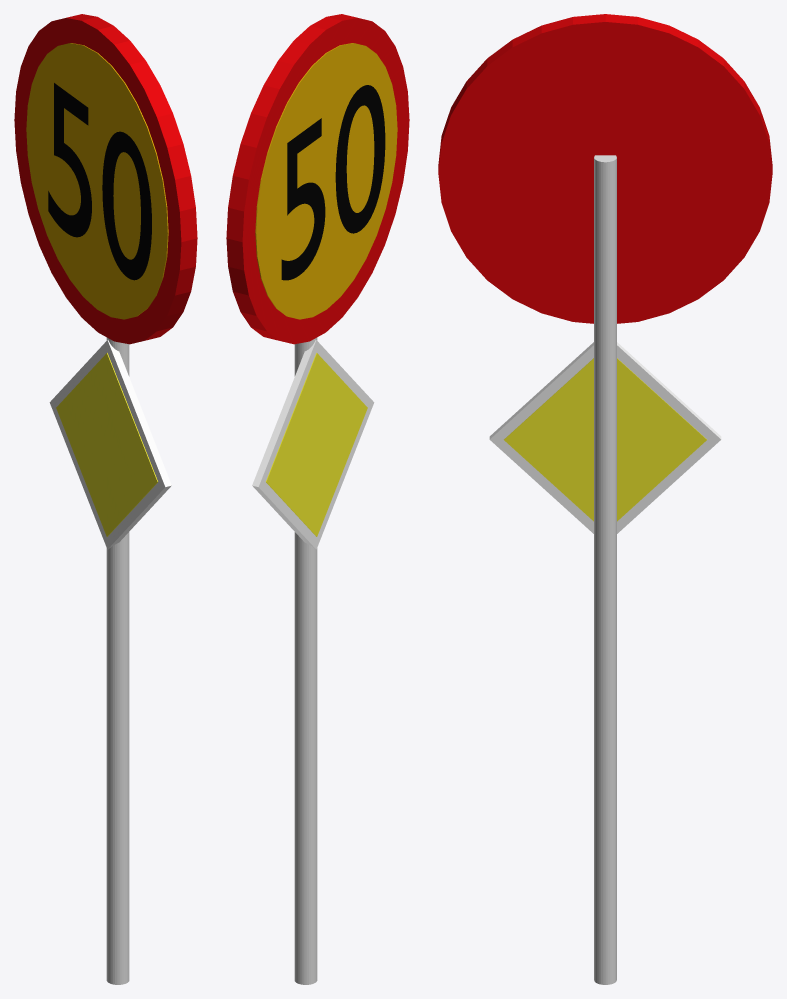
File: sign_50_huvudled.fbx
The picture shows the model from 3 angles, left to right: view 1: azimuth 30°, elevation 25°; view 2: azimuth 150°, elevation 25°; view 3: azimuth 270°, elevation 25°; orthographic projection.
Visible parts, largest first — view 1: Cylinder.001, Cylinder.002, Cylinder, huvudled_yellow, Text, huvudled_yellow.001; view 2: Cylinder.001, Cylinder.002, Cylinder, huvudled_yellow, Text, huvudled_yellow.001; view 3: Cylinder.002, Cylinder, huvudled_yellow, huvudled_yellow.001.
Part boxes in pixels (x1,y1,x2,y2): Cylinder.001: (26, 43, 168, 319); Cylinder.002: (14, 14, 197, 344); Cylinder: (106, 337, 129, 984); huvudled_yellow: (56, 353, 157, 536); Text: (48, 83, 151, 280); huvudled_yellow.001: (49, 340, 171, 549); Cylinder.001: (255, 43, 397, 319); Cylinder.002: (226, 14, 409, 344); Cylinder: (294, 337, 317, 984); huvudled_yellow: (266, 353, 367, 536); Text: (281, 85, 385, 280); huvudled_yellow.001: (252, 340, 374, 549); Cylinder.002: (438, 14, 772, 323); Cylinder: (594, 155, 616, 984); huvudled_yellow: (504, 358, 706, 521); huvudled_yellow.001: (489, 342, 721, 533).
Size of the model in its own units: 4.15 by 116 by 36.83.
